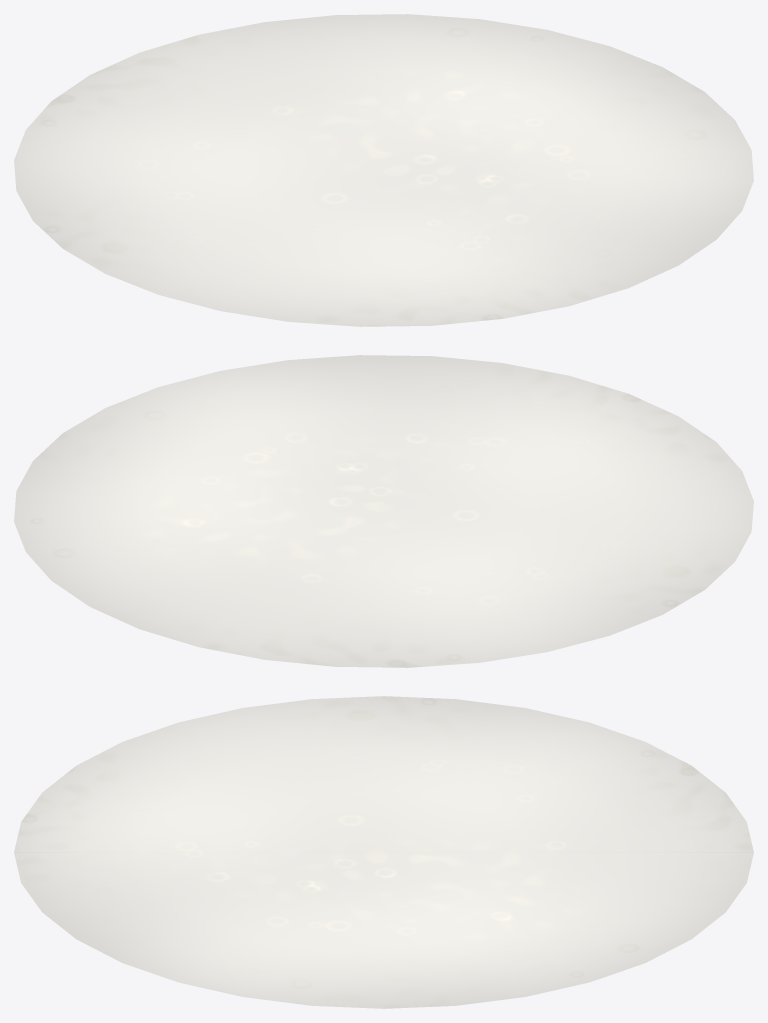
File: mm7_deco_7dec32_liquid_white.glb
3 views of the same model, one above another, from view 1: azimuth 30°, elevation 25°; view 2: azimuth 150°, elevation 25°; view 3: azimuth 270°, elevation 25° (orthographic).
Parts seen in each view (by area): view 1: Liquid; view 2: Liquid; view 3: Liquid.
Boxes of the visible parts, left/top/right/bottom form: Liquid: left=14, top=14, right=753, bottom=326; Liquid: left=14, top=355, right=753, bottom=667; Liquid: left=14, top=696, right=753, bottom=1008.
Bounding box in the file's own units: 0.727 × 0 × 0.727.
1 material, 1 textured.
